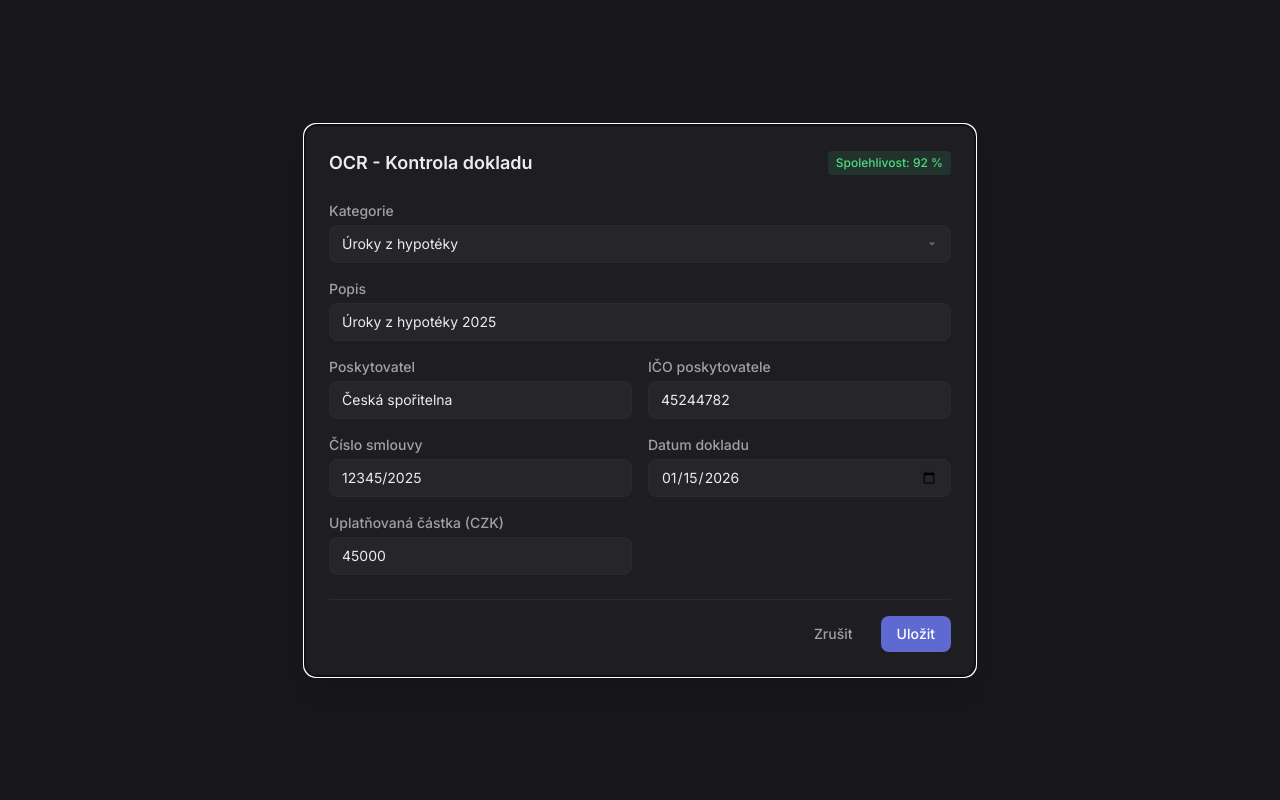
Test: TaxDeductionOCRReviewDialog › hides the purpose field unless category is donation or union_dues
Expected: the field labelled "Účel" is not shown
Select "Dary" in the dropdown labelled "Kategorie": (640, 244) [329,224,951,262]
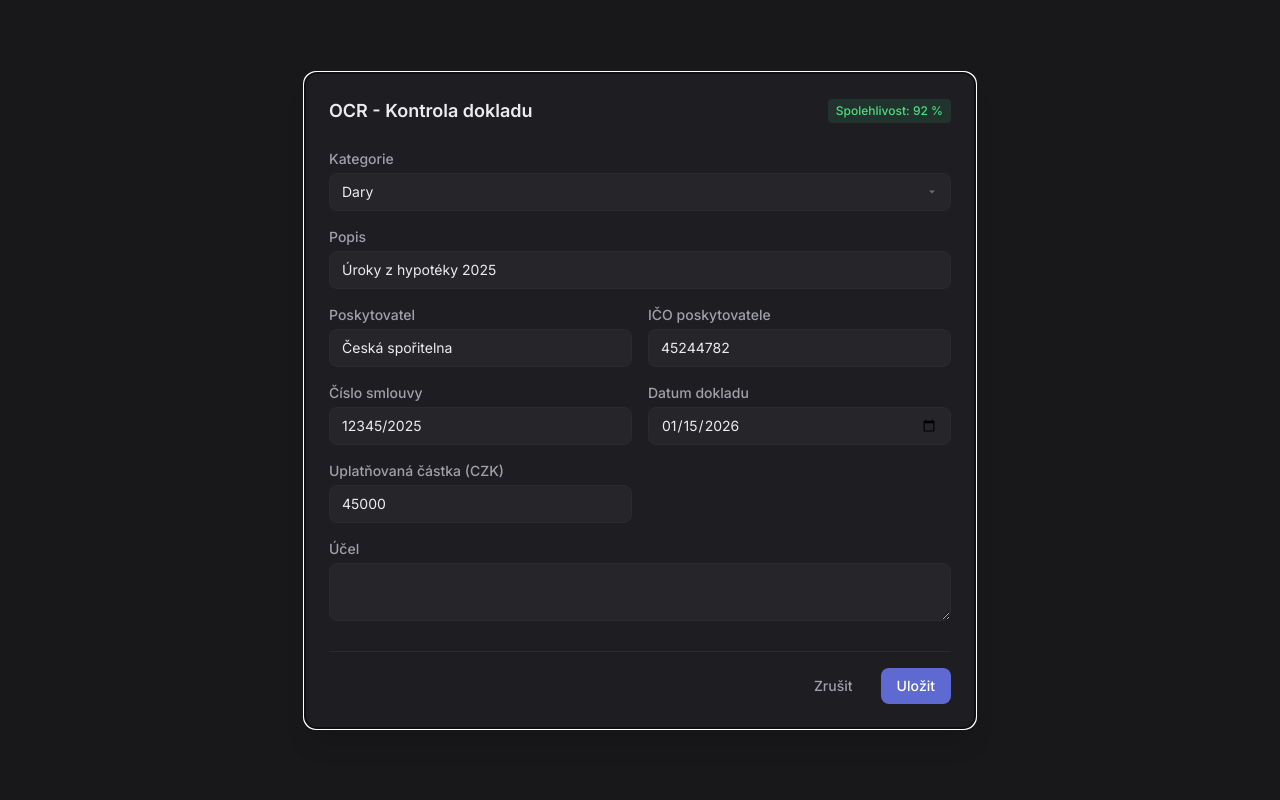
Now the text box labelled "Účel" is shown, box [329,562,951,620]
